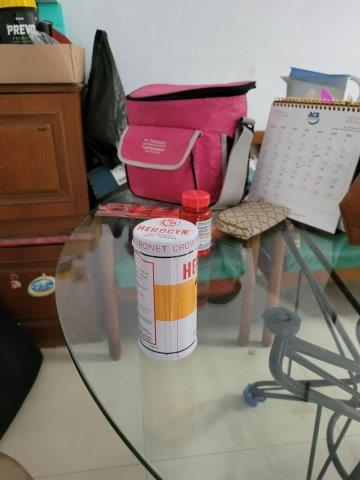kaleng: (132, 218, 197, 364)
